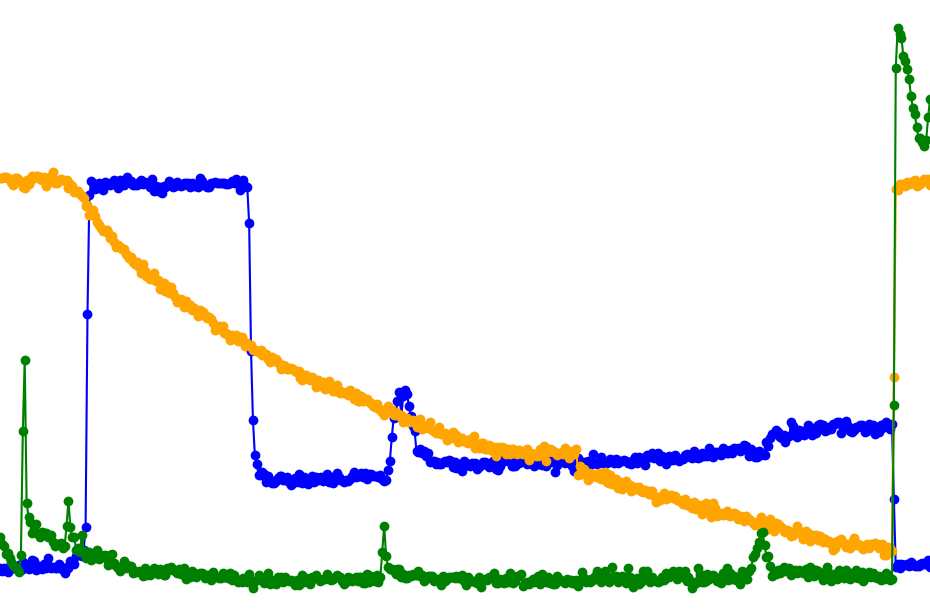CO2 Problem: (456, 0, 775, 616), (136, 0, 319, 616), (775, 0, 930, 616), (319, 0, 456, 616), (456, 0, 593, 616), (867, 0, 912, 616), (912, 0, 930, 616)
Condensation (CO2): (136, 0, 273, 616), (91, 0, 136, 616)
Condensation (O2): (867, 0, 912, 616), (912, 0, 930, 616)
Low O2: (684, 0, 930, 616), (775, 0, 930, 616), (821, 0, 930, 616), (912, 0, 930, 616)
Normal: (319, 0, 930, 616), (456, 0, 930, 616), (0, 0, 456, 616), (0, 0, 319, 616), (456, 0, 775, 616), (456, 0, 730, 616), (136, 0, 319, 616), (273, 0, 456, 616), (775, 0, 930, 616), (136, 0, 273, 616), (319, 0, 456, 616), (0, 0, 136, 616), (821, 0, 930, 616), (775, 0, 867, 616), (0, 0, 91, 616), (867, 0, 930, 616), (912, 0, 930, 616)
O2 Problem: (456, 0, 930, 616), (136, 0, 319, 616), (319, 0, 456, 616), (456, 0, 593, 616), (867, 0, 930, 616)
